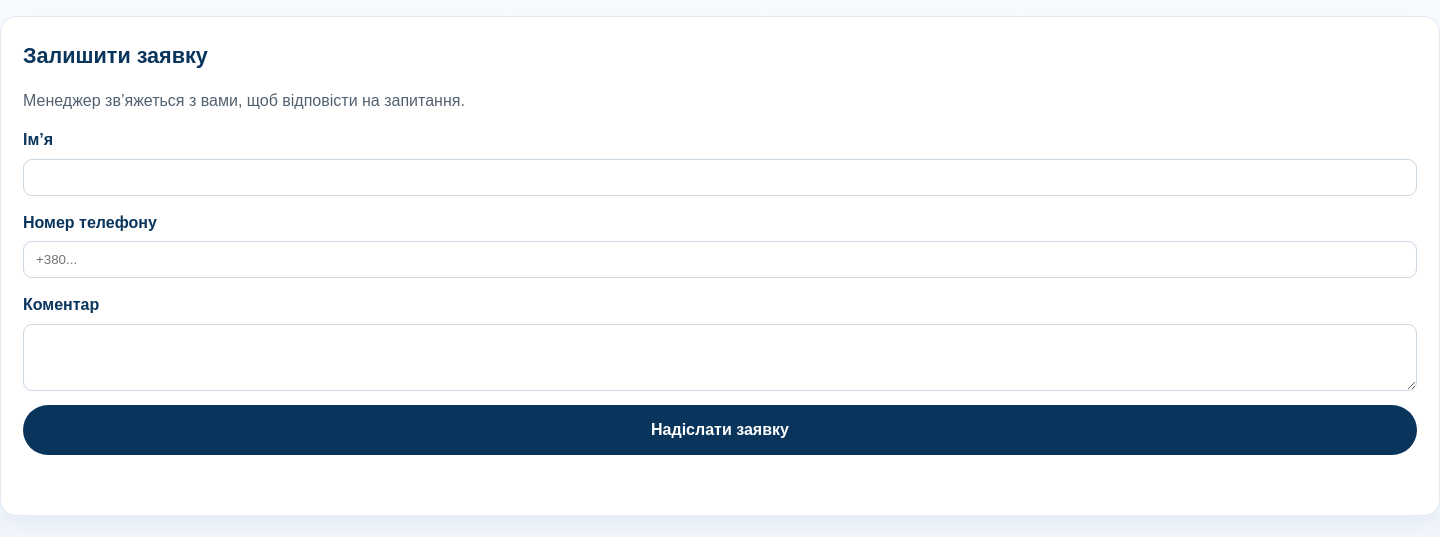
ApplicationForm › shows a clear error if the API is unavailable
Type "Олена" into the field labelled "Ім’я". click: [720, 177]
box: [23, 159, 1417, 196]
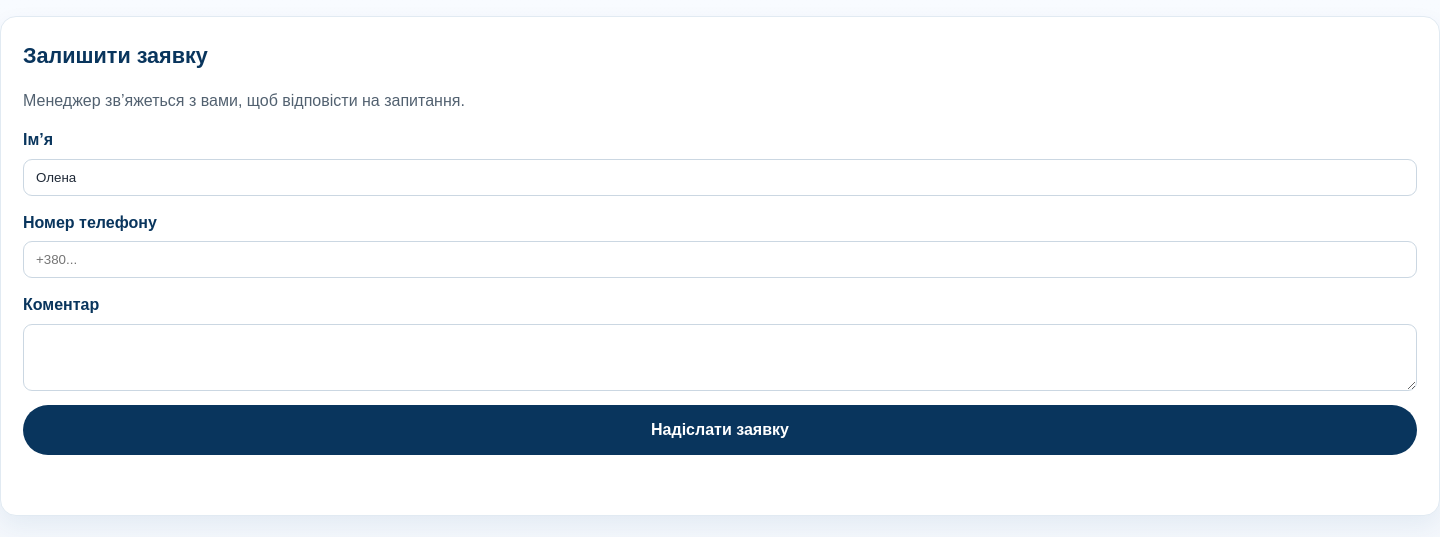
Type "+380501234567" into the field labelled "Номер телефону". click: [720, 260]
box: [23, 241, 1417, 278]
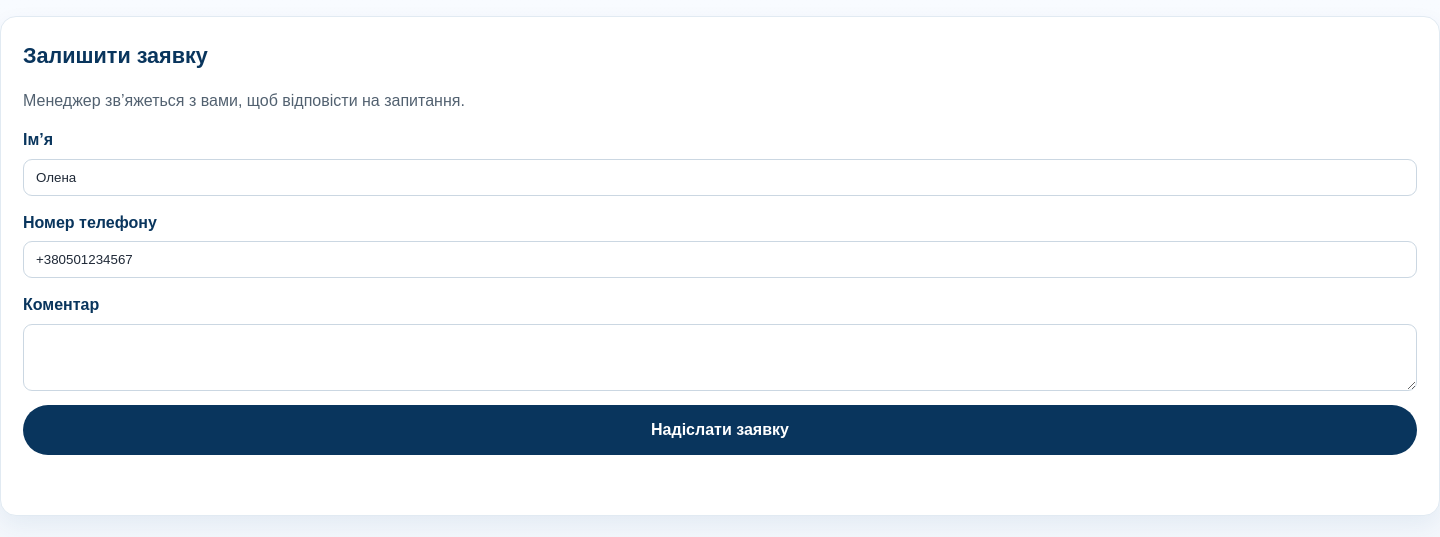
Click the button "Надіслати заявку". click: [720, 430]
box: [23, 405, 1417, 454]
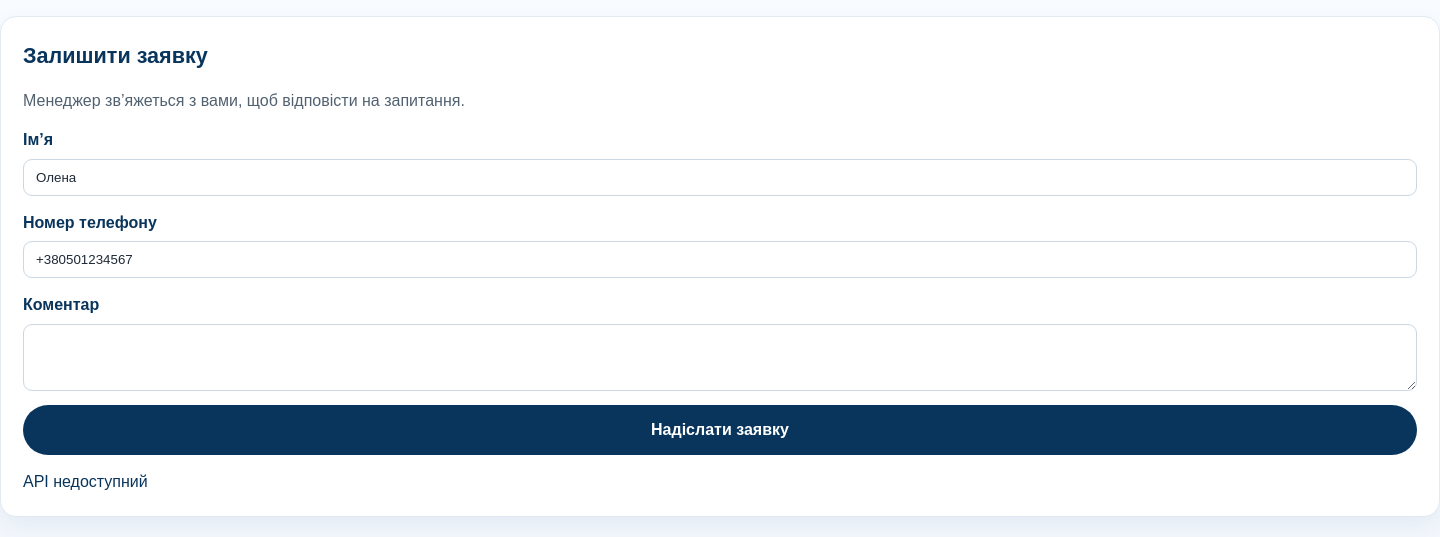
Expected: the text "API недоступний" is shown, [23, 472, 148, 490]
